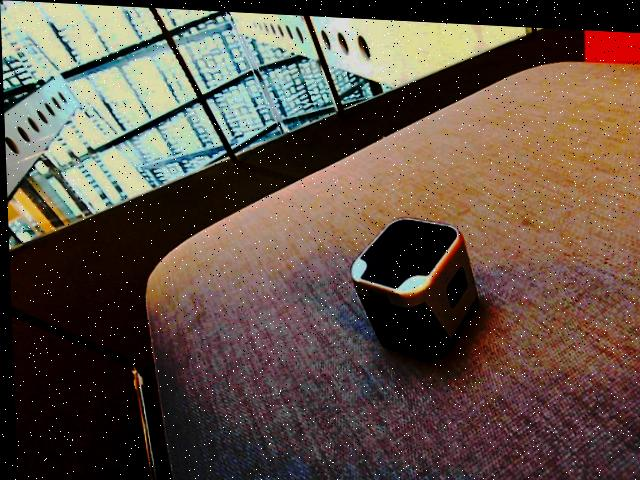adapter: (346, 209, 477, 358)
